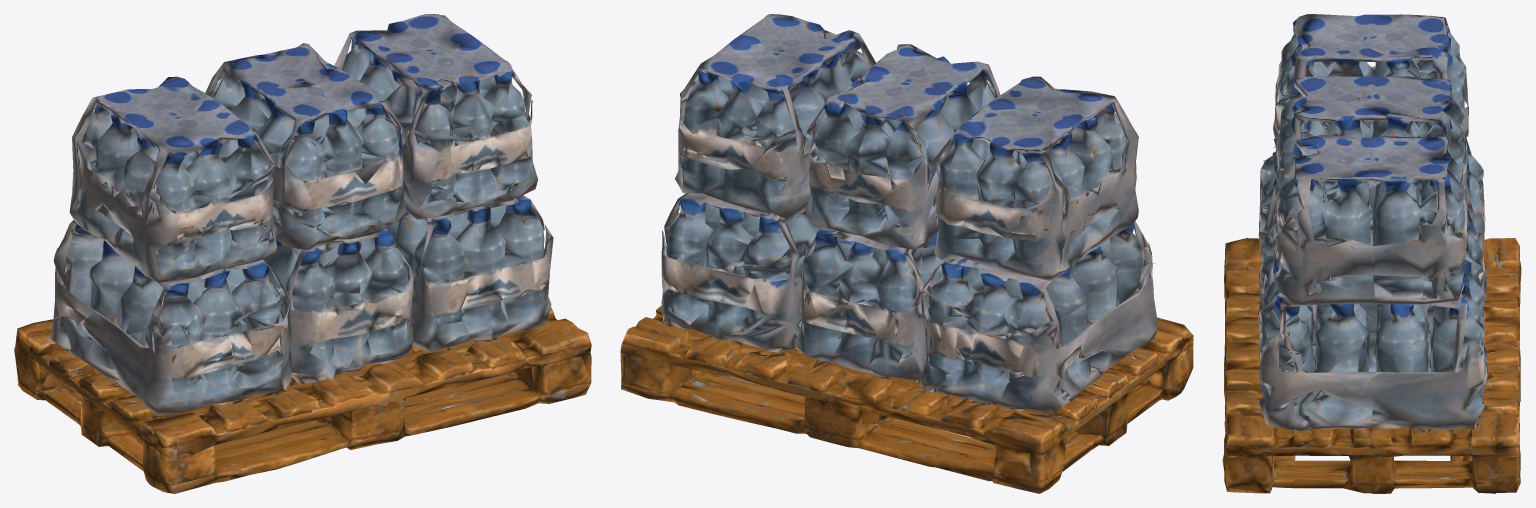
File: d_water_pallet.glb
3 views of the same model, side by side, from view 1: azimuth 30°, elevation 25°; view 2: azimuth 150°, elevation 25°; view 3: azimuth 270°, elevation 25° (orthographic). The views are drawn at different scales.
Bounding box in the file's own units: 1.89 × 1.32 × 1.19.
Materials: 1 (1 with a texture image).
